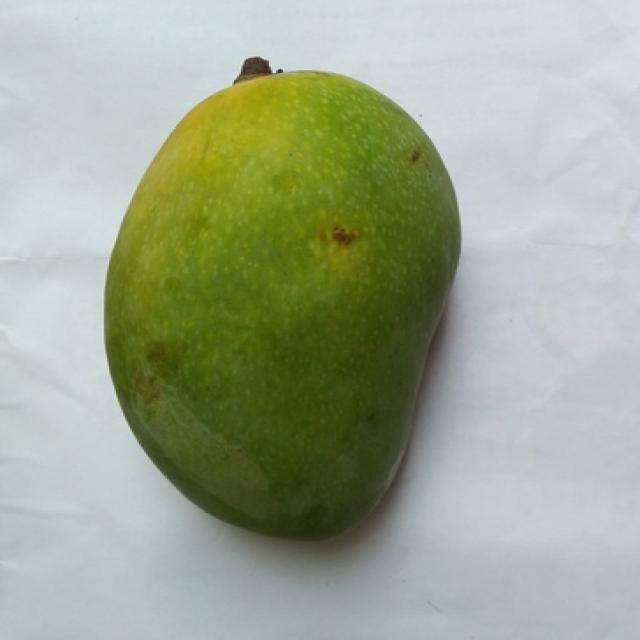Mango: (104, 63, 459, 538)
